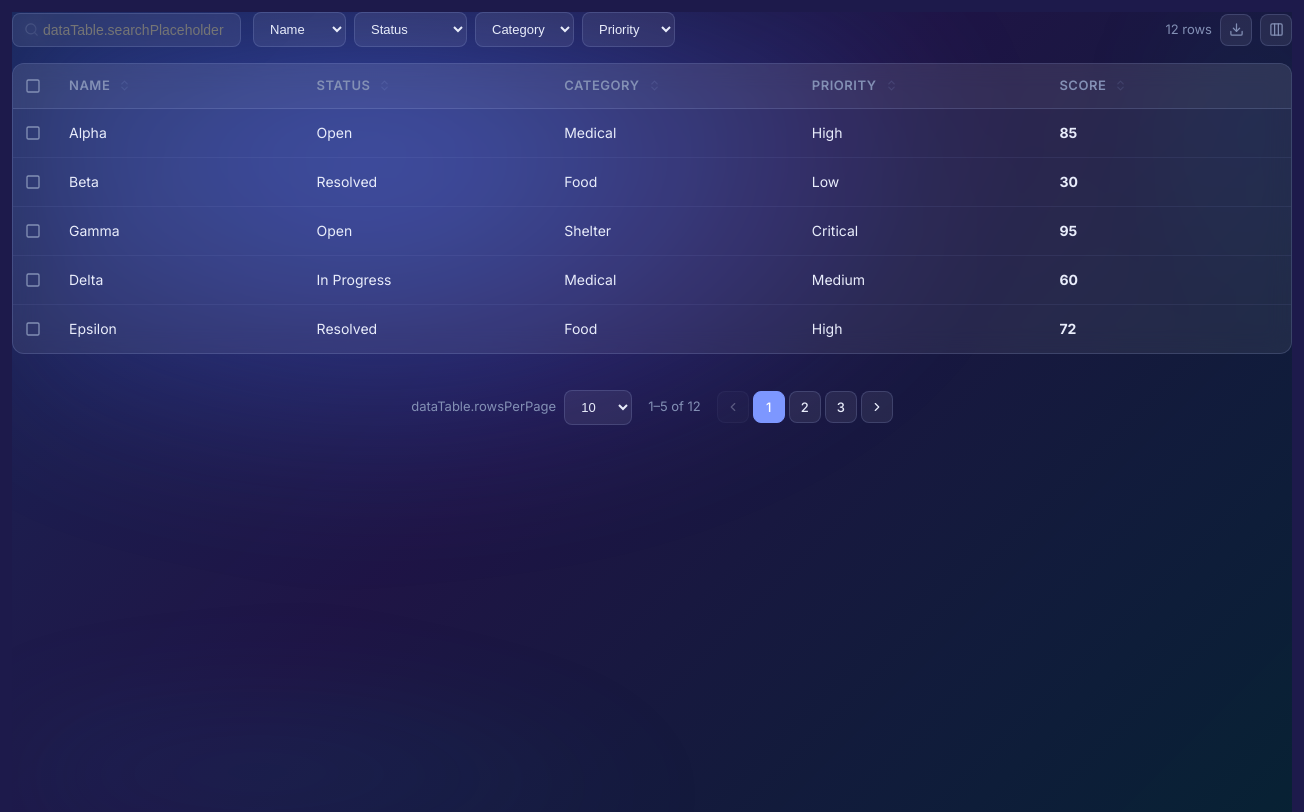
DataTable › Bulk Actions › shows bulk action bar when a row is selected
This screenshot has width=1304, height=812.
Click the checkbox with class "dt-check-btn" next to "Alpha" at (33,132), box [21,120,45,144]
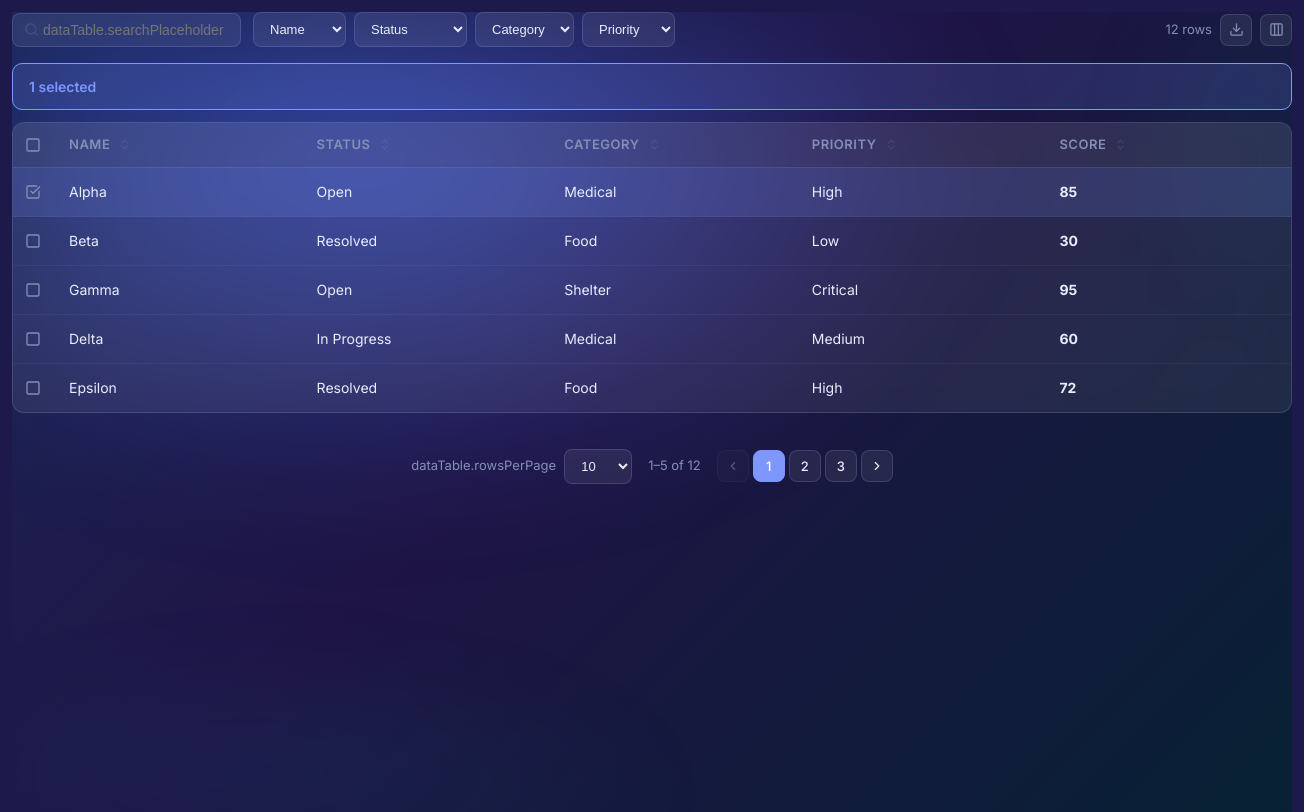
Expected: the element with class "dt-bulk-bar" is shown, [12,63,1292,110]
